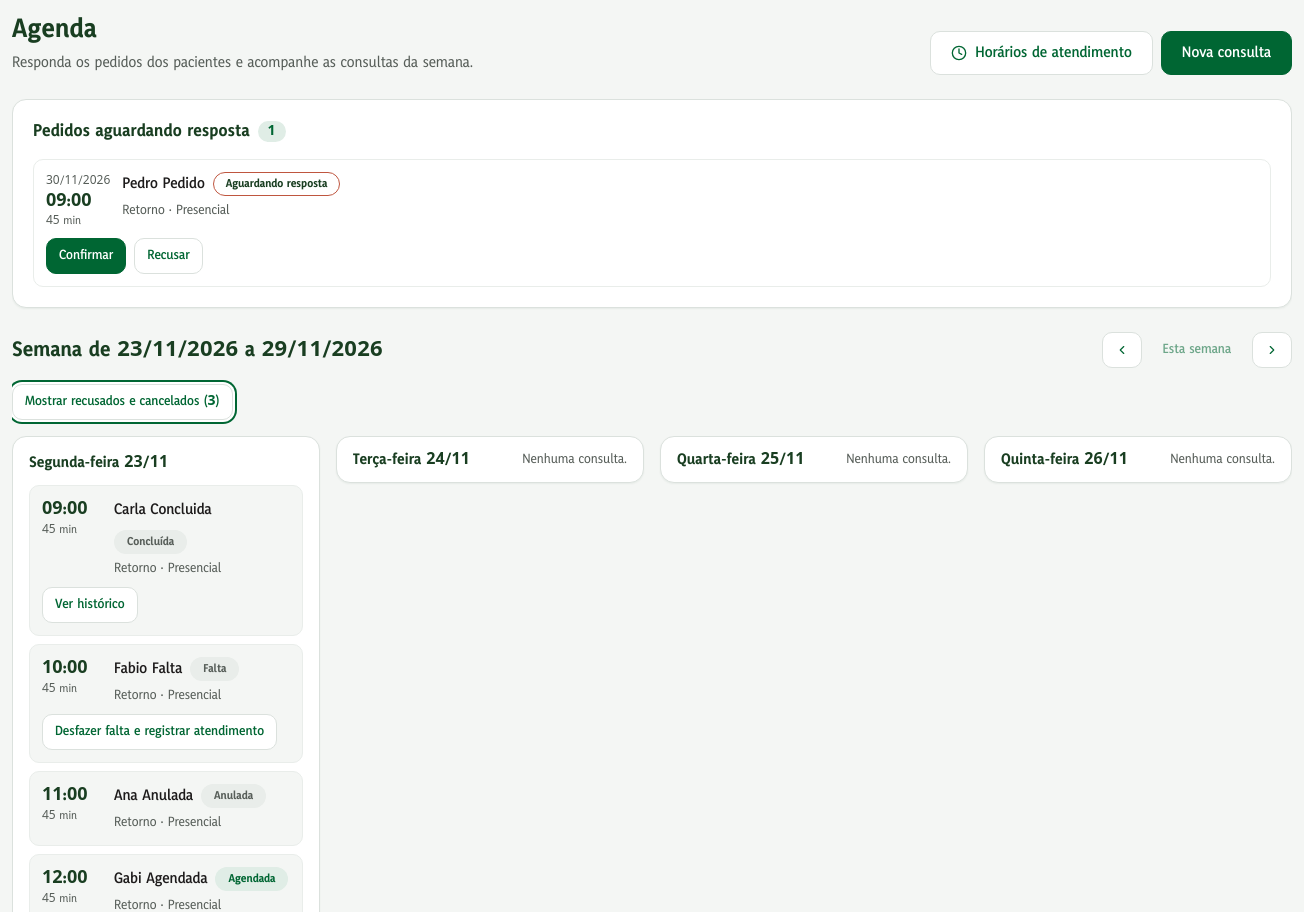
AgendamentoPrescritor › a semana esconde recusados e cancelados e o botao mostra os dois de volta no lugar
The image size is (1304, 912).
Check: the text "Carla Concluida" is shown, box [114,498,212,522]
Check: the text "Fabio Falta" is shown, box [114,657,182,681]
Press Enter
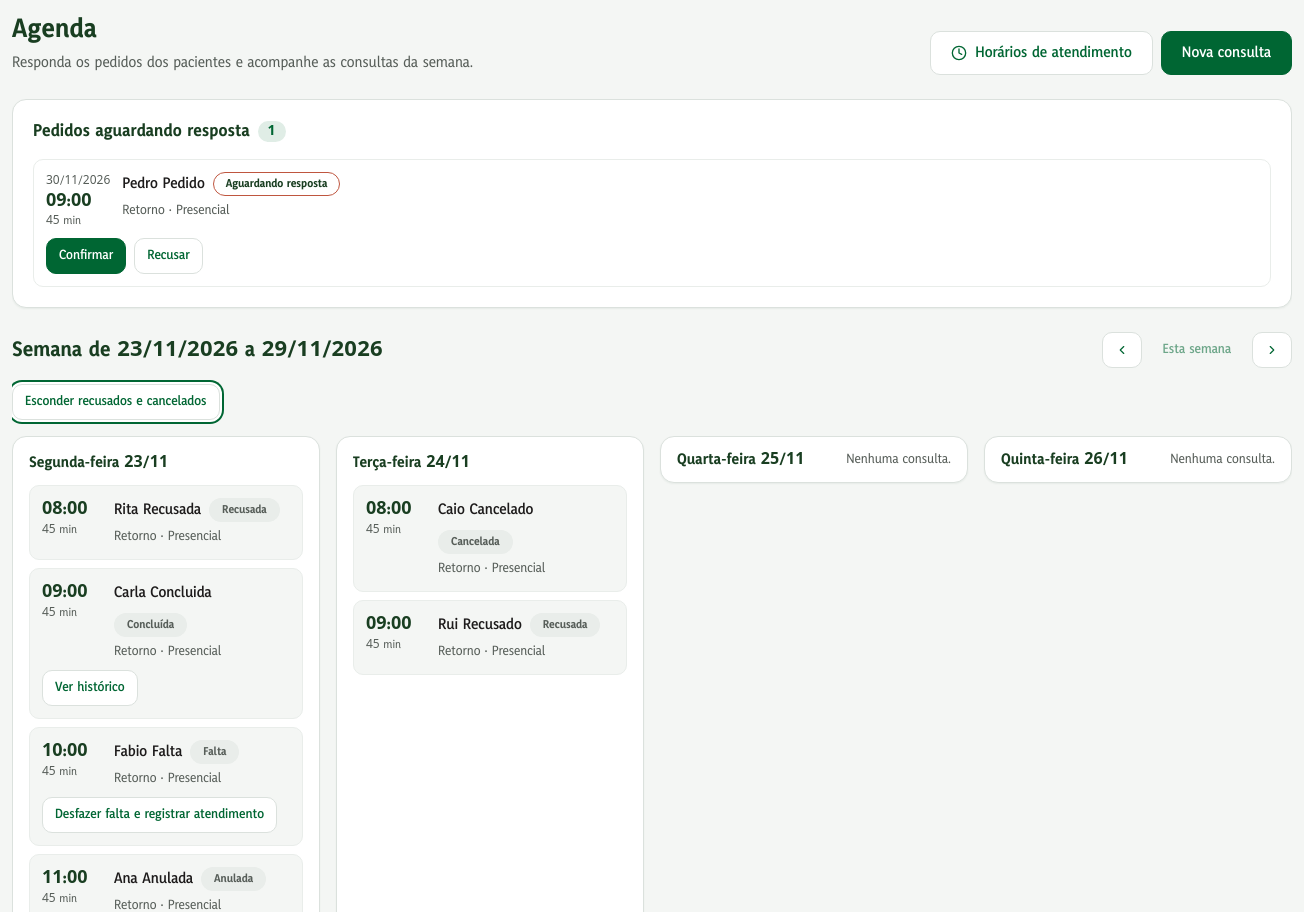
Check: the text "Recusada" next to "Rita Recusada" is shown, box [222,502,267,518]
Check: the text "Caio Cancelado" is shown, box [438,498,534,522]
Check: the text "Rui Recusado" is shown, box [438,613,522,637]
Click the button named "Mostrar recusados e cancelados (3)".
click(116, 402)  # box [12,384,220,420]
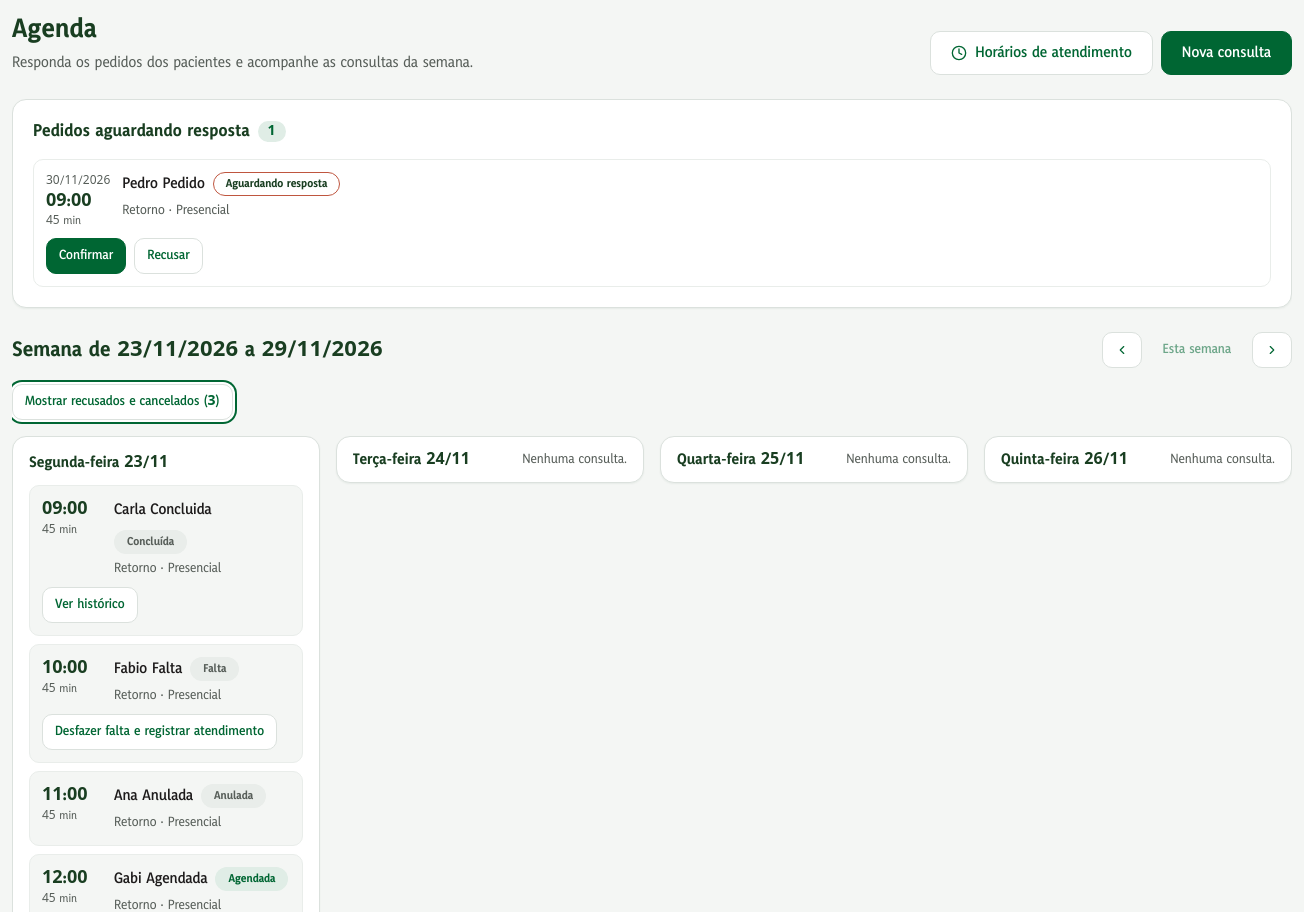
Check: the text "Rita Recusada" is gone
